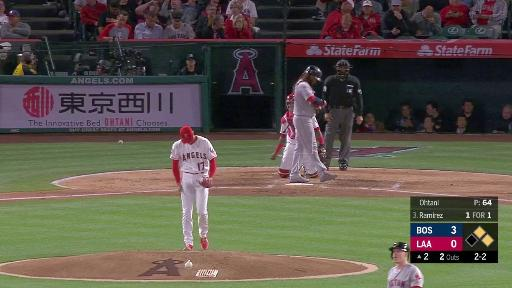pitcher: (171, 124, 218, 250)
